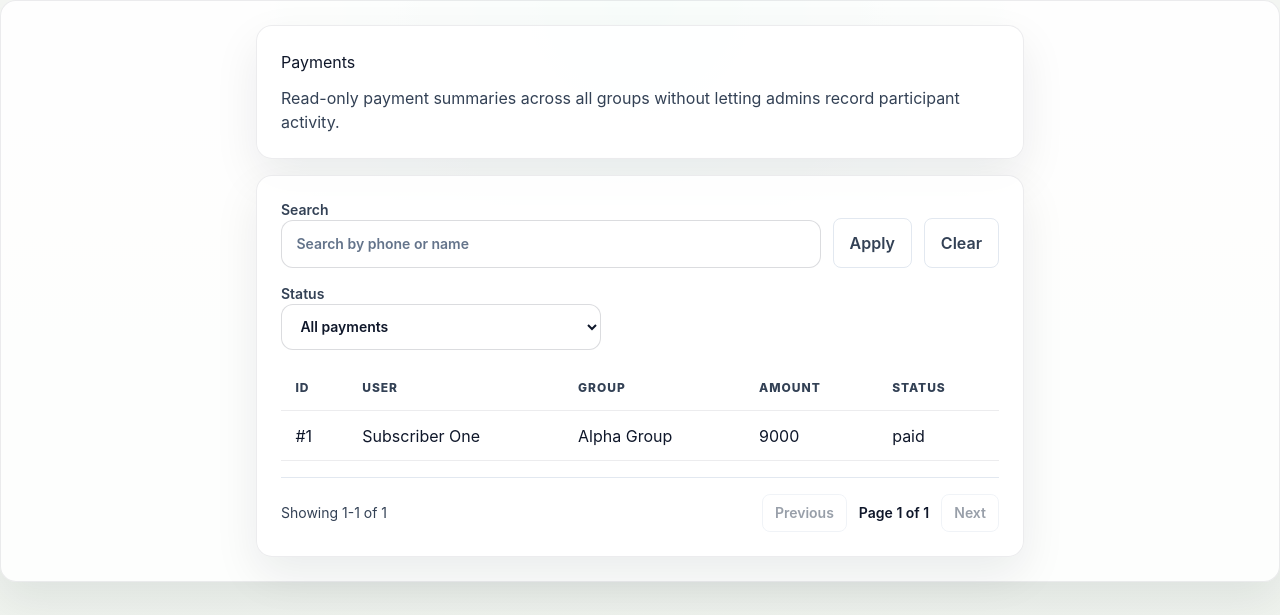
Test case: AdminPaymentsPage lets admins filter by payment status
Expected: the text "Subscriber One" is shown, left=348, top=410, right=564, bottom=461
Select "Pending" in the dropdown labelled "Status": (441, 327) left=281, top=304, right=601, bottom=350
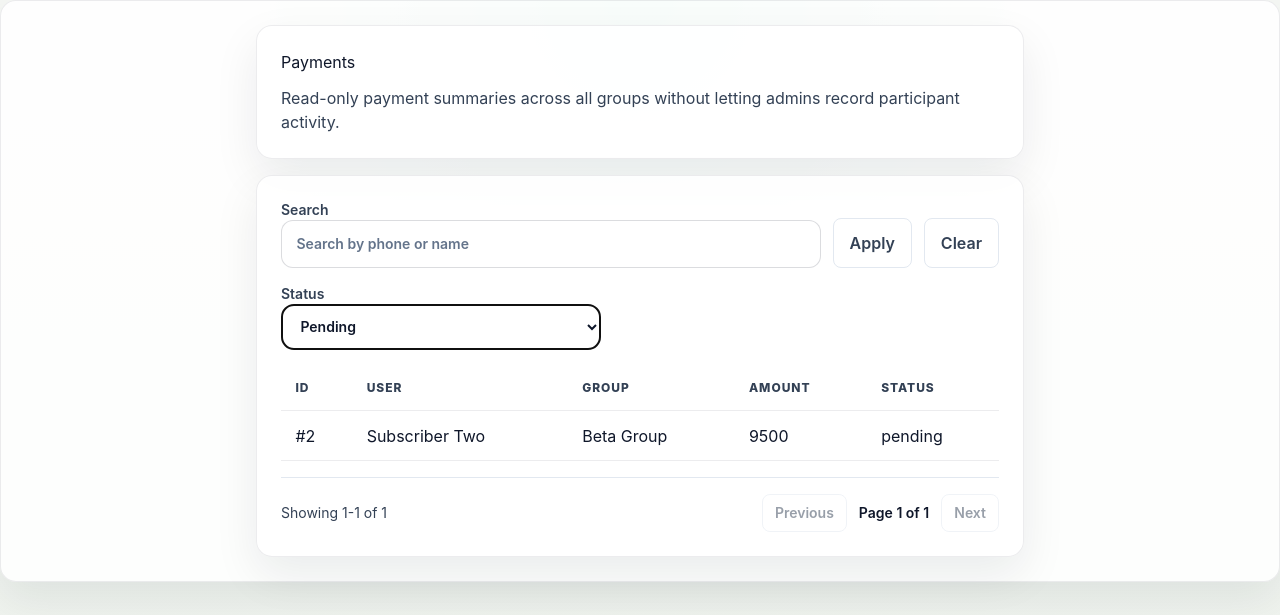
Expected: the text "Subscriber Two" is shown, left=352, top=410, right=568, bottom=461
